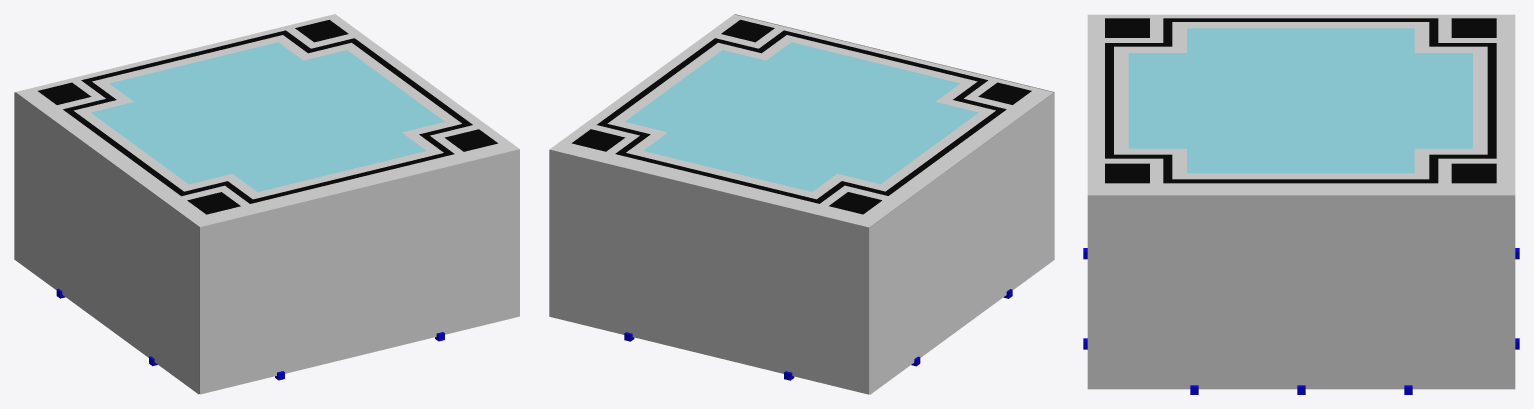
3 views of the same model, side by side, from view 1: azimuth 30°, elevation 25°; view 2: azimuth 150°, elevation 25°; view 3: azimuth 270°, elevation 25° (orthographic). The views are drawn at different scales.
Parts seen in each view (by area): view 1: cube, col2, pa1, pa2; view 2: cube, col2, pa1, pa2; view 3: cube, col2.
Part boxes in pixels (x1,y1,x2,y2): cube: (15,14,519,394); col2: (38,19,497,214); pa1: (14,92,106,326); pa2: (106,160,198,394); cube: (549,14,1053,394); col2: (572,19,1031,214); pa1: (870,160,962,394); pa2: (962,93,1054,326); cube: (1087,14,1515,389); col2: (1105,18,1496,183).
Bounding box in the file's own units: 10.2 × 5.21 × 10.2.
